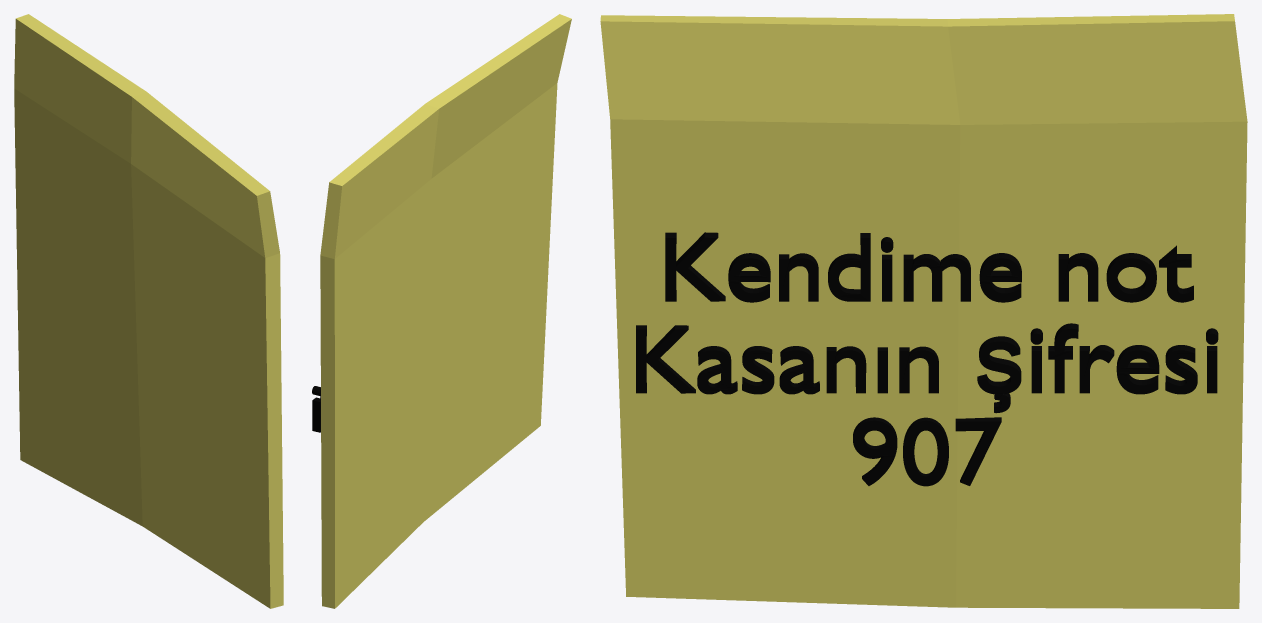
Rendered from Postit.fbx.
3 views of the same model, side by side, from view 1: azimuth 30°, elevation 25°; view 2: azimuth 150°, elevation 25°; view 3: azimuth 270°, elevation 25° (orthographic). The views are drawn at different scales.
Visible parts, largest first — view 1: Plane; view 2: Plane, Text; view 3: Plane, Text.
Boxes of the visible parts, x1,y1,x2,y2 form: Plane: (14, 14, 283, 608); Plane: (320, 14, 571, 608); Text: (312, 386, 320, 432); Plane: (600, 14, 1247, 608); Text: (636, 232, 1218, 486).
Bounding box in the file's own units: 18.45 × 207 × 208.
